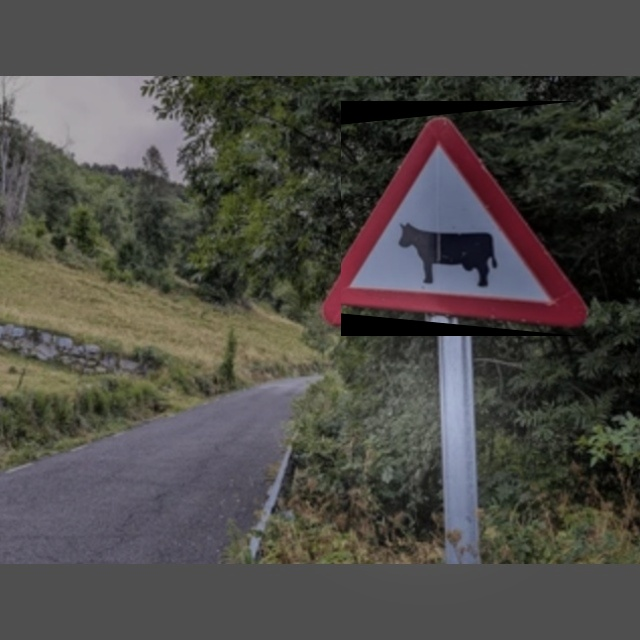Cattle: (341, 101, 580, 336)
